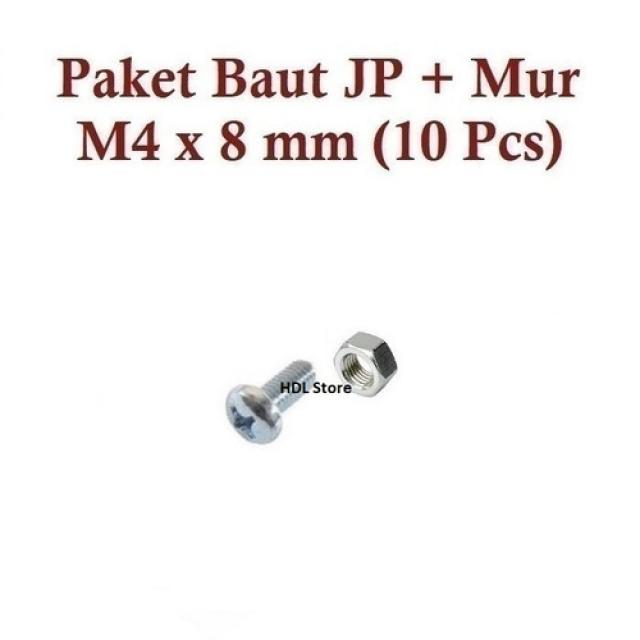Logam: (170, 262, 458, 486)
